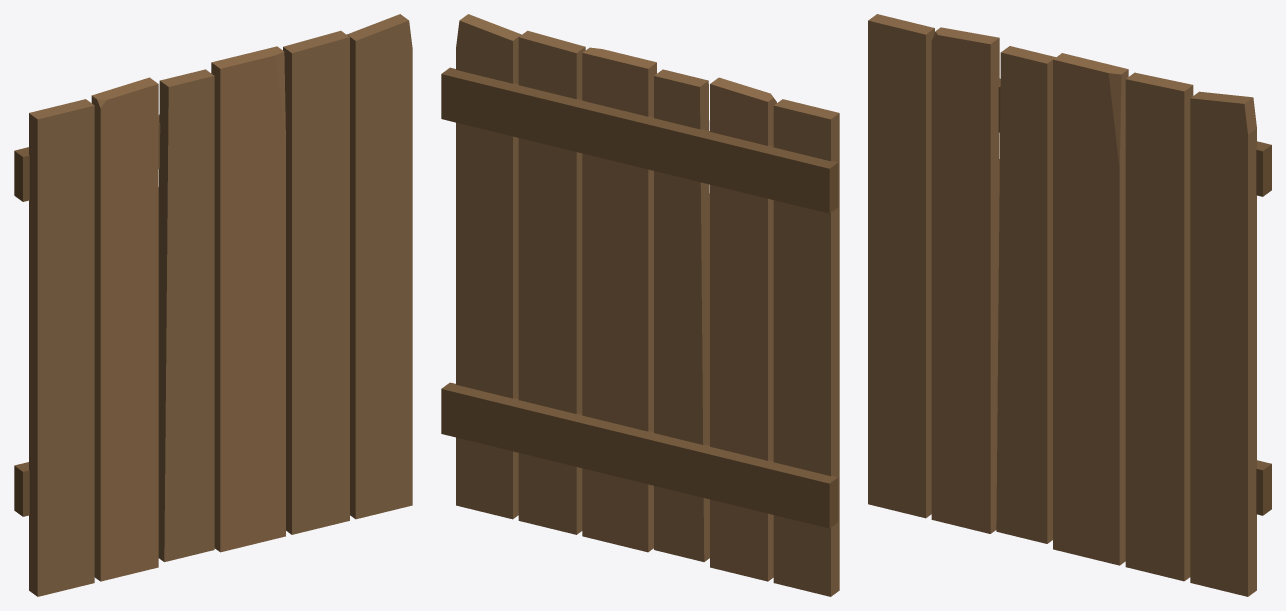
Rendered from Fence_01.glb.
The picture shows the model from 3 angles, left to right: view 1: azimuth 30°, elevation 25°; view 2: azimuth 150°, elevation 25°; view 3: azimuth 330°, elevation 25°; orthographic projection.
Visible parts, largest first — view 1: Fence_01; view 2: Fence_01; view 3: Fence_01.
Part boxes in pixels (x1,y1,x2,y2): Fence_01: (14, 14, 412, 596); Fence_01: (441, 14, 839, 596); Fence_01: (868, 14, 1271, 596).
Bounding box in the file's own units: 1.02 × 1.22 × 0.0766.
Materials: 1 (1 with a texture image).
